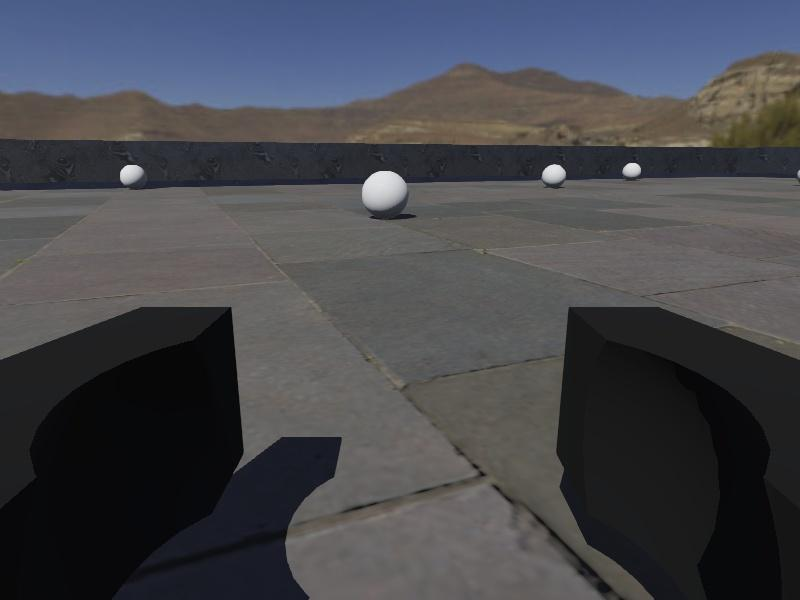white ball: (361, 169, 410, 220), (118, 162, 149, 191), (541, 162, 568, 189), (622, 160, 642, 179)
